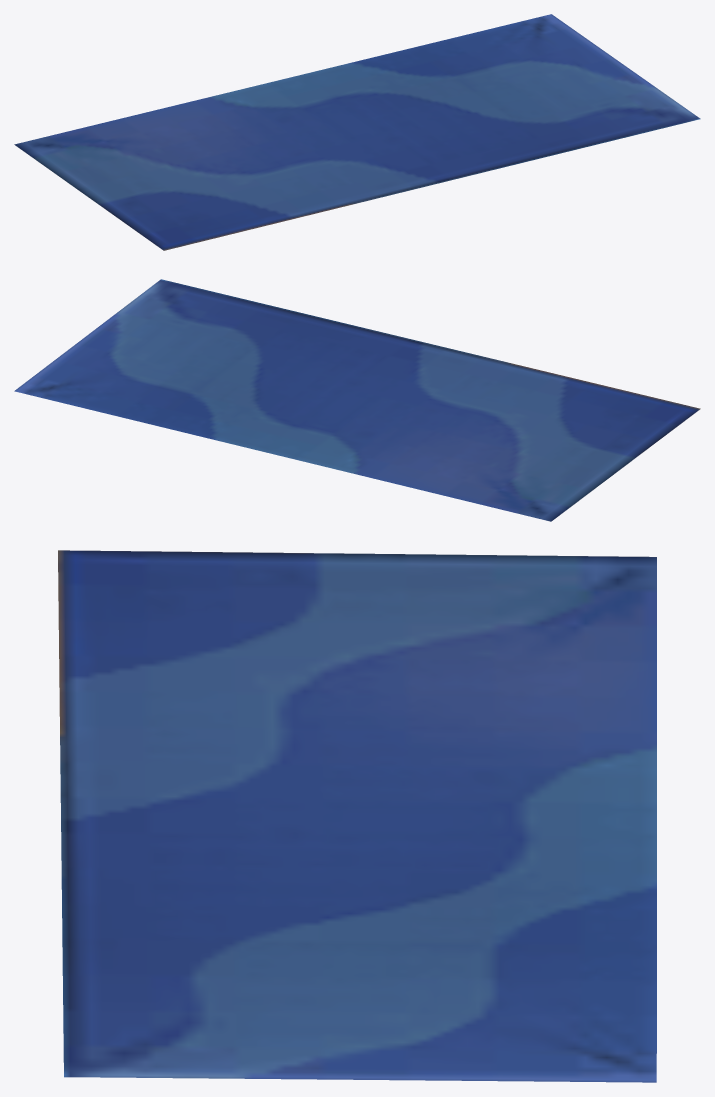
The model's file is pref_sm_beach_techcrowd_flag_shadow01_lv1.fbx.
3 views of the same model, one above another, from view 1: azimuth 30°, elevation 25°; view 2: azimuth 150°, elevation 25°; view 3: azimuth 270°, elevation 25° (orthographic). The views are drawn at different scales.
Visible parts, largest first — view 1: pref_sm_beach_techcrowd_flag_shadow01_lv1; view 2: pref_sm_beach_techcrowd_flag_shadow01_lv1; view 3: pref_sm_beach_techcrowd_flag_shadow01_lv1.
Boxes of the visible parts, bbox=[...] form: pref_sm_beach_techcrowd_flag_shadow01_lv1: bbox=[14, 14, 700, 250]; pref_sm_beach_techcrowd_flag_shadow01_lv1: bbox=[14, 279, 700, 521]; pref_sm_beach_techcrowd_flag_shadow01_lv1: bbox=[58, 550, 656, 1082].
Bounding box in the file's own units: 11.56 × 0.081 × 5.57.
